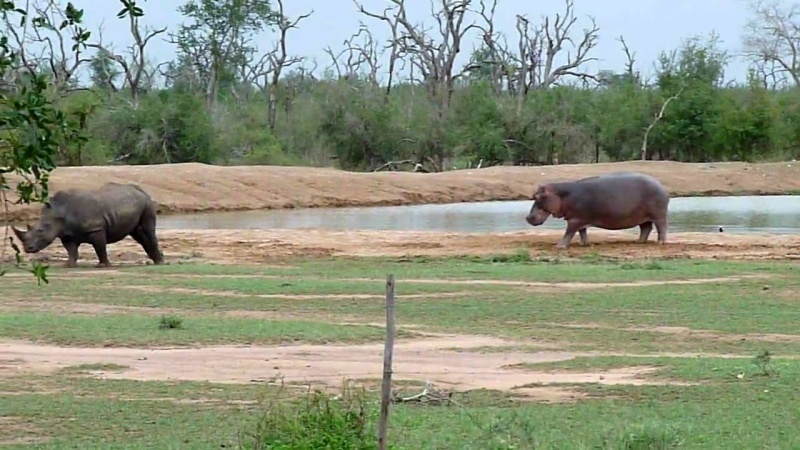hipopotamo: (7, 174, 180, 279), (525, 170, 676, 255)
